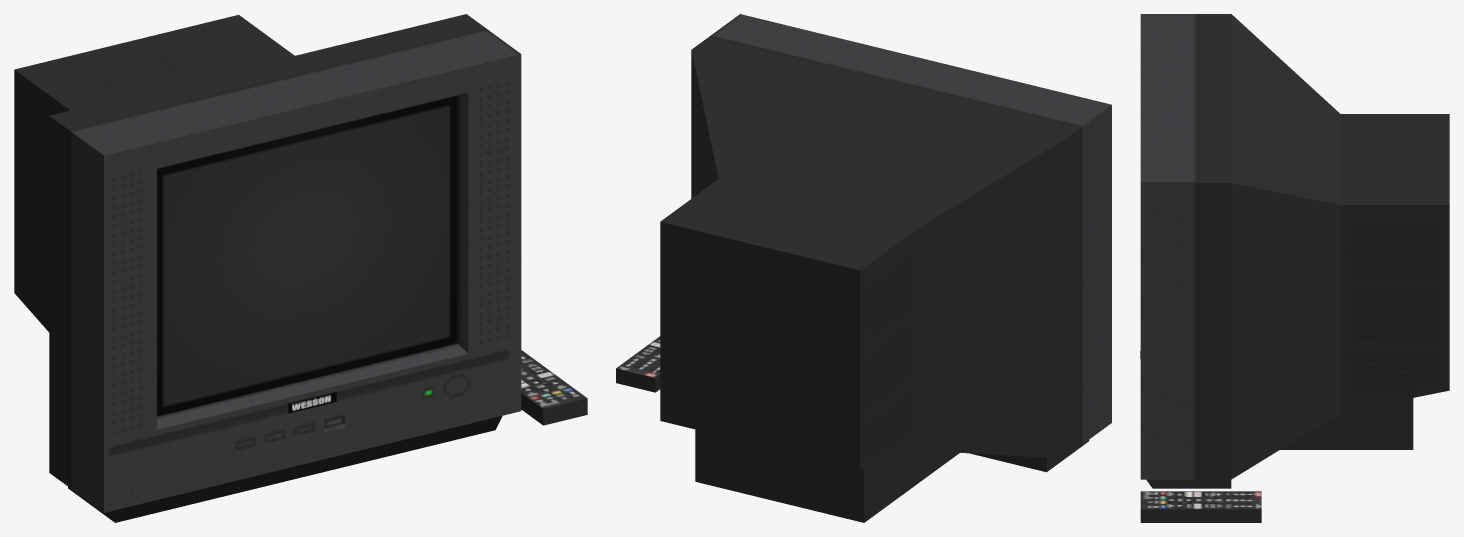
File: [PSX] Box TV Model.fbx
3 renders of one model, left to right at view 1: azimuth 30°, elevation 25°; view 2: azimuth 150°, elevation 25°; view 3: azimuth 270°, elevation 25°, orthographic. The views are drawn at different scales.
Parts seen in each view (by area): view 1: Box TV, TV Remote; view 2: Box TV, TV Remote; view 3: Box TV, TV Remote.
Part boxes in pixels (box(x1,y1,x2,y2)): Box TV: box(14, 14, 521, 522); TV Remote: box(521, 350, 587, 425); Box TV: box(660, 14, 1111, 522); TV Remote: box(616, 336, 660, 392); Box TV: box(1140, 14, 1449, 488); TV Remote: box(1140, 491, 1261, 522).
Size of the model in its own units: 76.5 by 57 by 51.04.
1 material, 1 textured.
